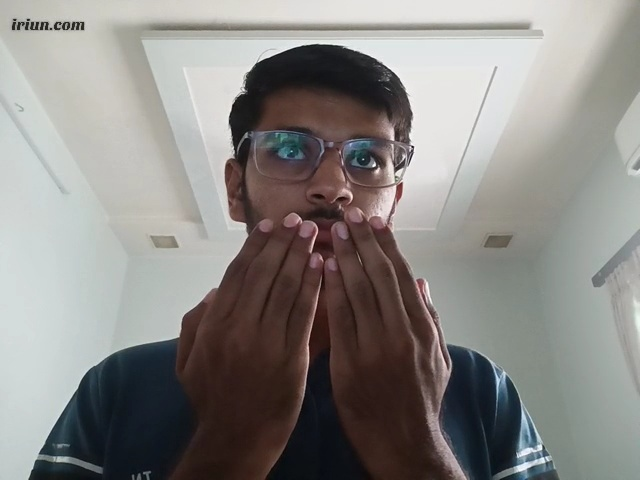Thank You: (172, 208, 458, 448)
